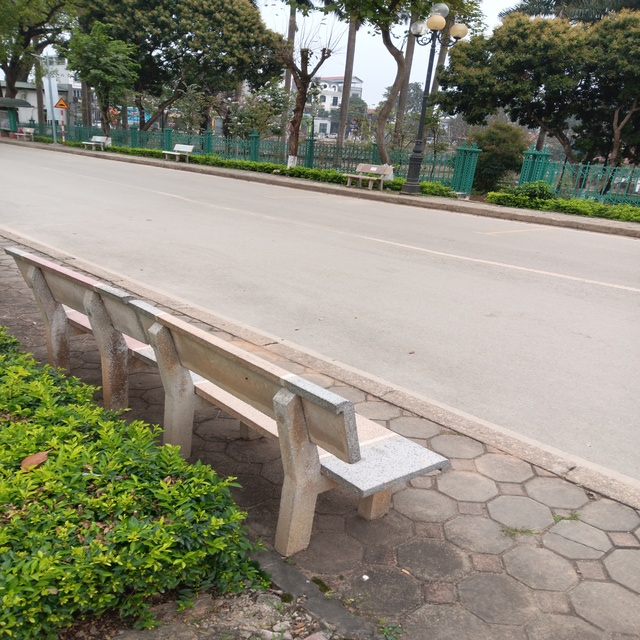gheda: (130, 293, 459, 558), (7, 237, 170, 419)
